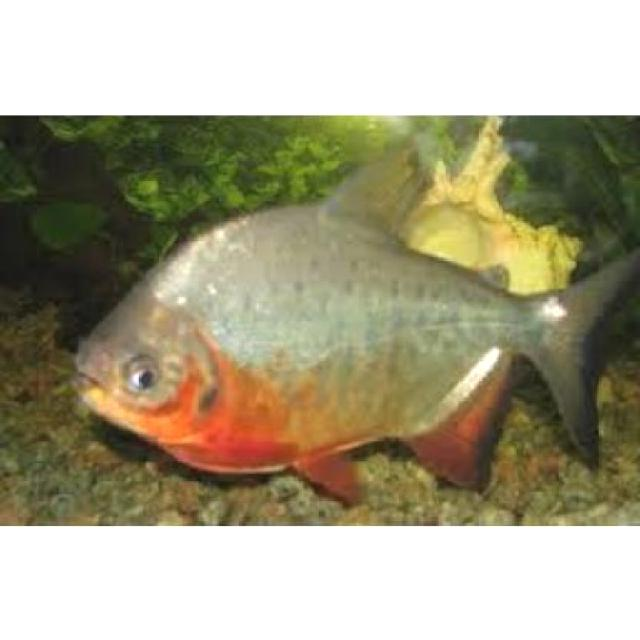ikan-pacu: (70, 180, 606, 488)
